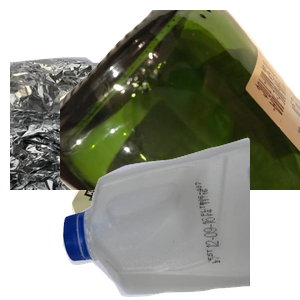glass: (60, 10, 300, 190)
metal: (10, 47, 250, 227)
plastic: (60, 135, 300, 300)
trash: (57, 137, 257, 300)
